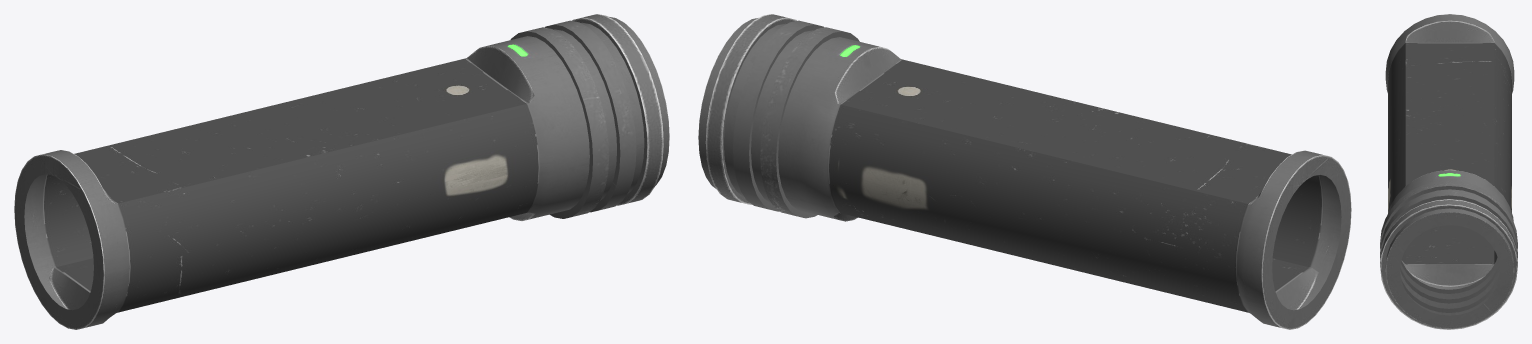
The model's file is grip_13_c_a.glb.
3 renders of one model, left to right at view 1: azimuth 30°, elevation 25°; view 2: azimuth 150°, elevation 25°; view 3: azimuth 270°, elevation 25°, orthographic. The views are drawn at different scales.
Visible parts, largest first — view 1: grip_13_c_a_lod0; view 2: grip_13_c_a_lod0; view 3: grip_13_c_a_lod0.
Boxes of the visible parts, x1,y1,x2,y2 form: grip_13_c_a_lod0: [14, 14, 669, 329]; grip_13_c_a_lod0: [698, 14, 1351, 329]; grip_13_c_a_lod0: [1380, 14, 1517, 329].
Size of what is drawn, in the model's own units: 0.1052 by 0.031 by 0.0309.
1 material, 1 textured.
